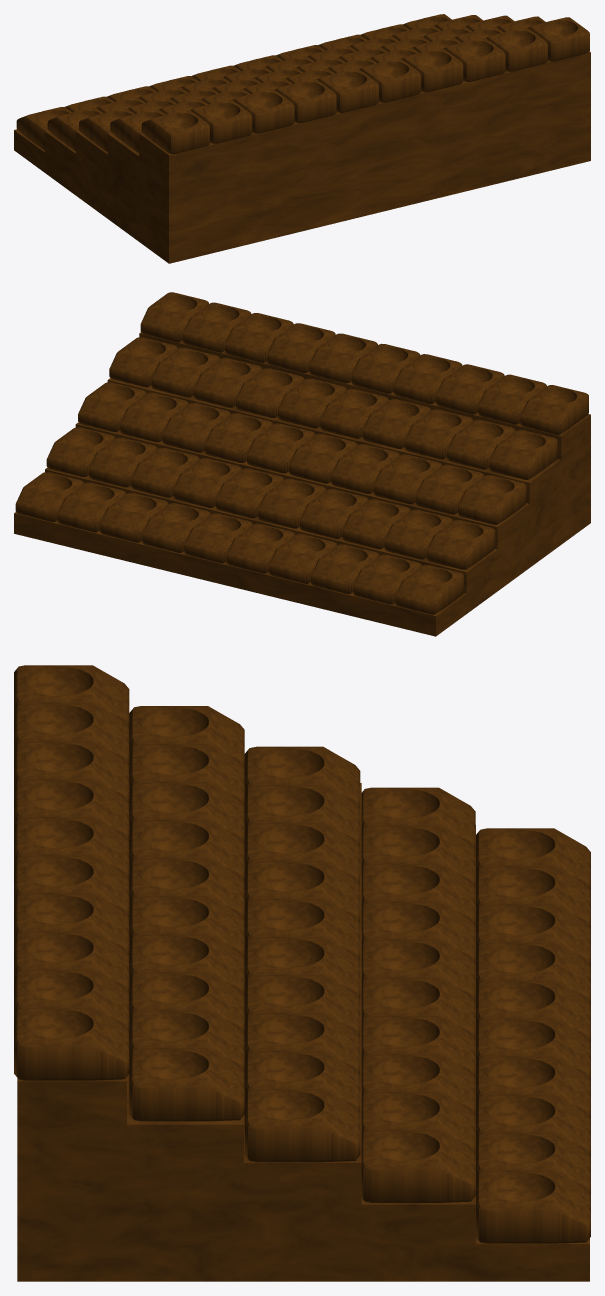
The model's file is BallHolder.fbx.
3 renders of one model, top to bottom at view 1: azimuth 30°, elevation 25°; view 2: azimuth 150°, elevation 25°; view 3: azimuth 270°, elevation 25°, orthographic. The views are drawn at different scales.
Parts seen in each view (by area): view 1: Cube.001, Cube; view 2: Cube, Cube.001; view 3: Cube, Cube.001.
Boxes of the visible parts, x1,y1,x2,y2 form: Cube.001: [14, 51, 590, 263]; Cube: [16, 14, 589, 153]; Cube: [15, 292, 588, 614]; Cube.001: [14, 332, 590, 636]; Cube: [14, 665, 590, 1243]; Cube.001: [17, 783, 589, 1281].
Size of the model in its own units: 2002 by 587 by 1282.
2 materials, 2 textured.
